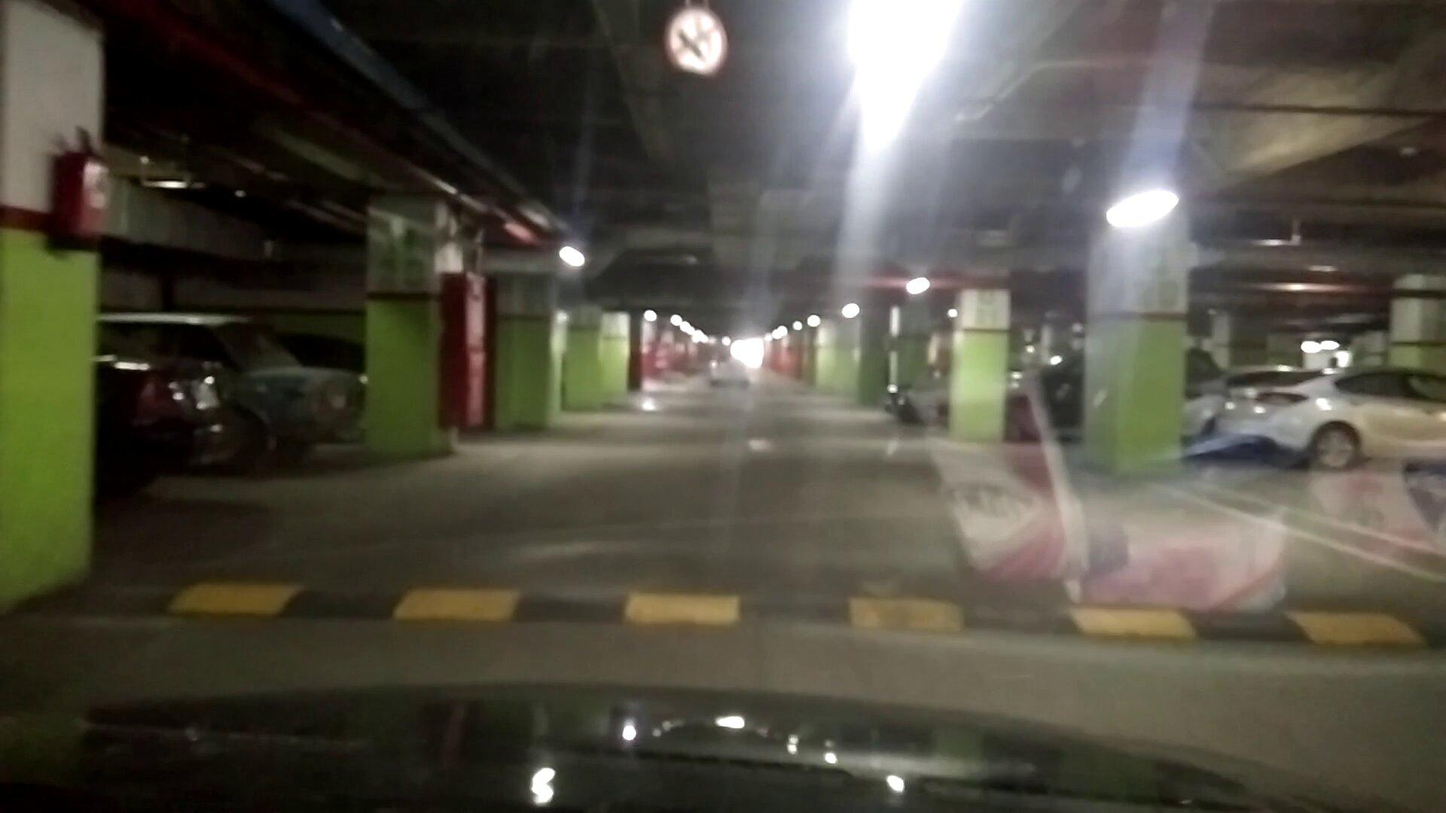Bump: (28, 566, 1442, 644)
